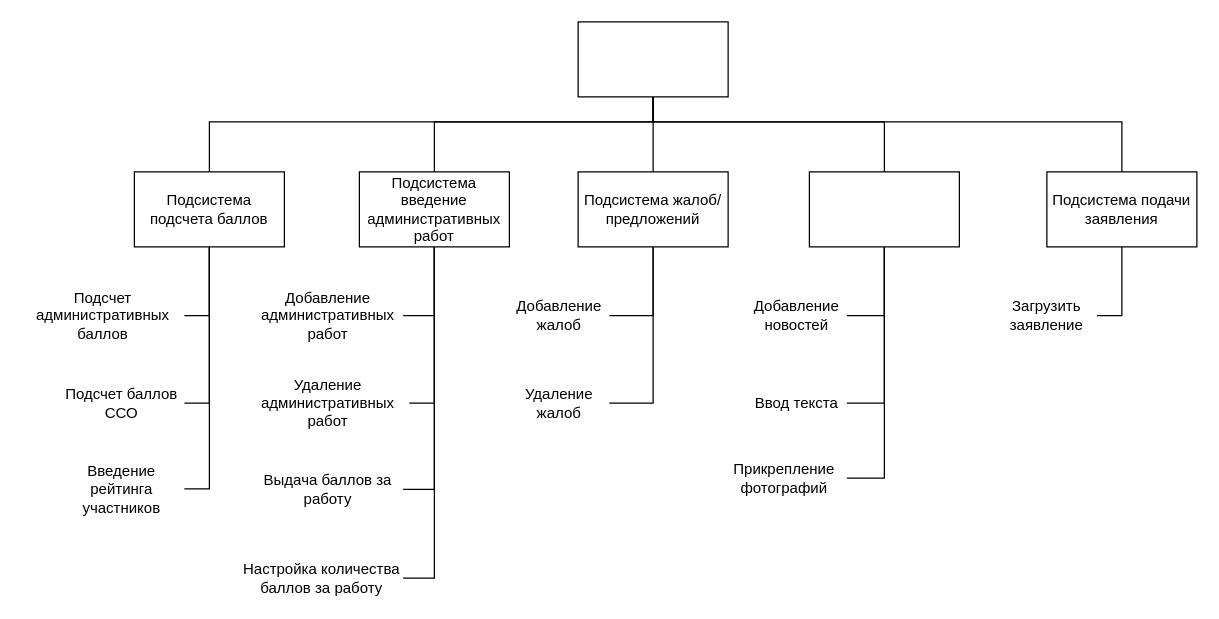
The diagram is 1219 pixels wide and 619 high, and some of its shapes have lost their labels. The centre of each missing label's shape, as x and y in pixels:
"Информационная система" belongs at pixel 652 59.
"Подсистема введение новостной ленты" belongs at pixel 883 209.
